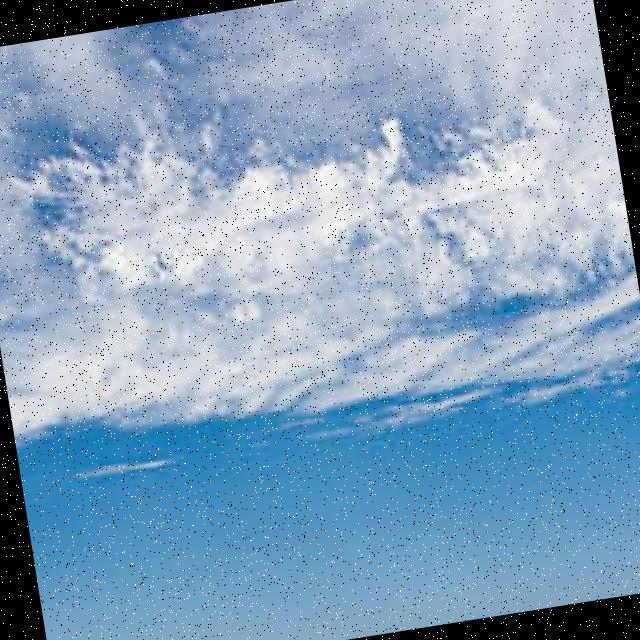Ci: (1, 1, 640, 488)
